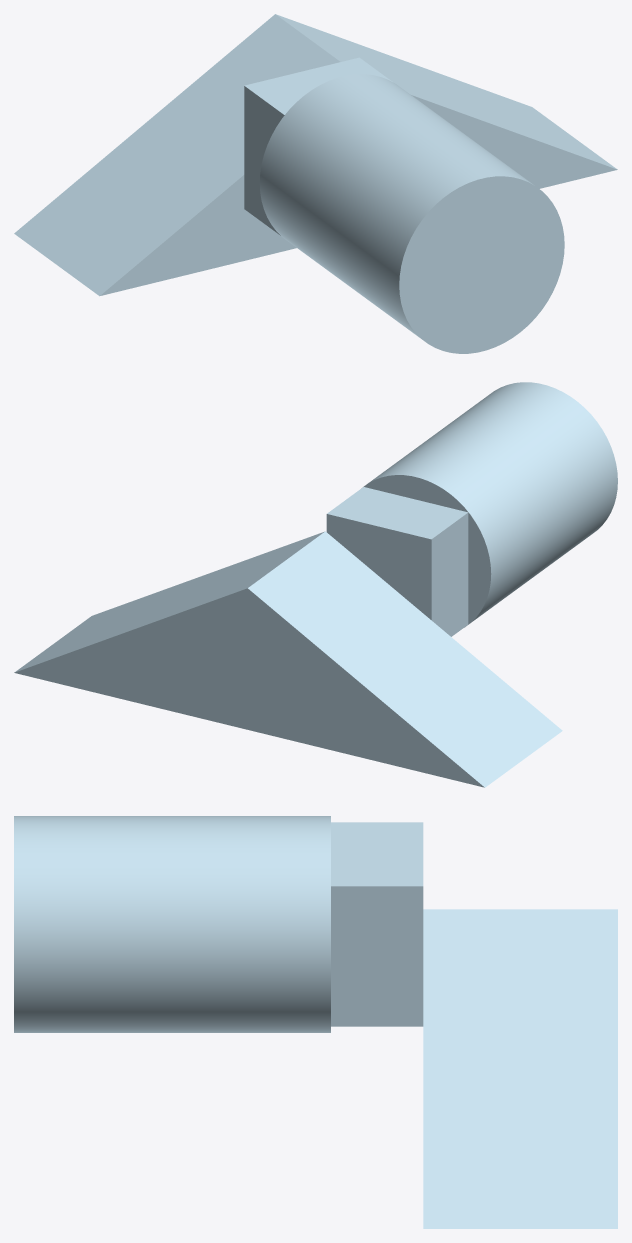
Rendered from Assembly 1.gltf.
The picture shows the model from 3 angles, top to bottom: view 1: azimuth 30°, elevation 25°; view 2: azimuth 150°, elevation 25°; view 3: azimuth 270°, elevation 25°; orthographic projection. The views are drawn at different scales.
Visible parts, largest first — view 1: Part 1 (×3); view 2: Part 1 (×3); view 3: Part 1 (×3).
Part boxes in pixels (x1,y1,x2,y2): Part 1 (×3): (14,14,617,353); Part 1 (×3): (14,382,617,787); Part 1 (×3): (14,816,617,1228).
Size of the model in its own units: 0.1843 by 0.068 by 0.1636.
